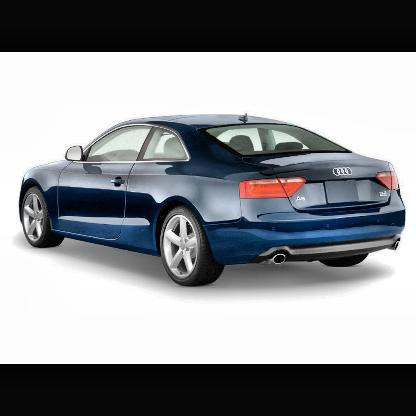Audi A5 Coupe 2012: (20, 116, 406, 289)
